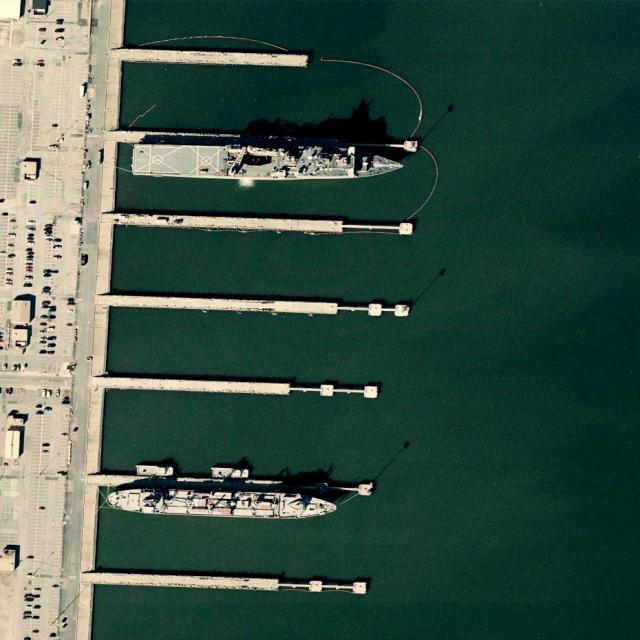Cargo: (105, 482, 339, 523)
Dock: (114, 211, 412, 234), (109, 294, 409, 316), (118, 130, 415, 151), (93, 570, 364, 593), (100, 473, 374, 495), (105, 376, 378, 397), (124, 48, 306, 66)
Landing: (131, 141, 403, 185)
